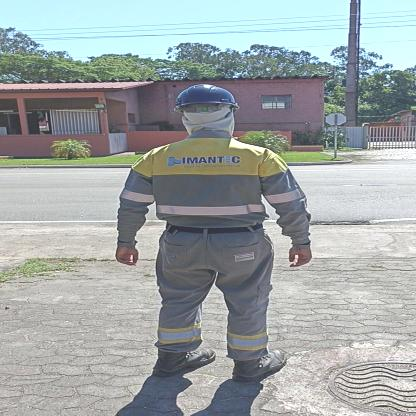Balaclava: (180, 106, 236, 137)
Capacete: (171, 82, 234, 106)
